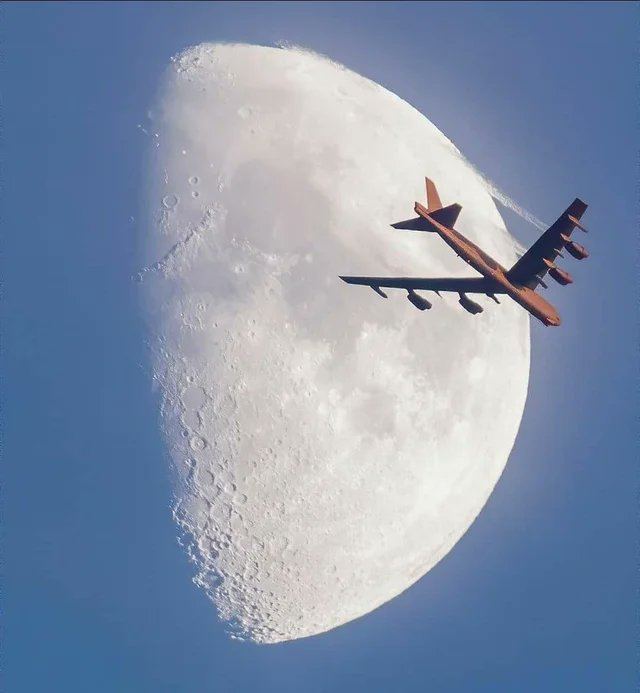B52: (337, 176, 590, 328)
